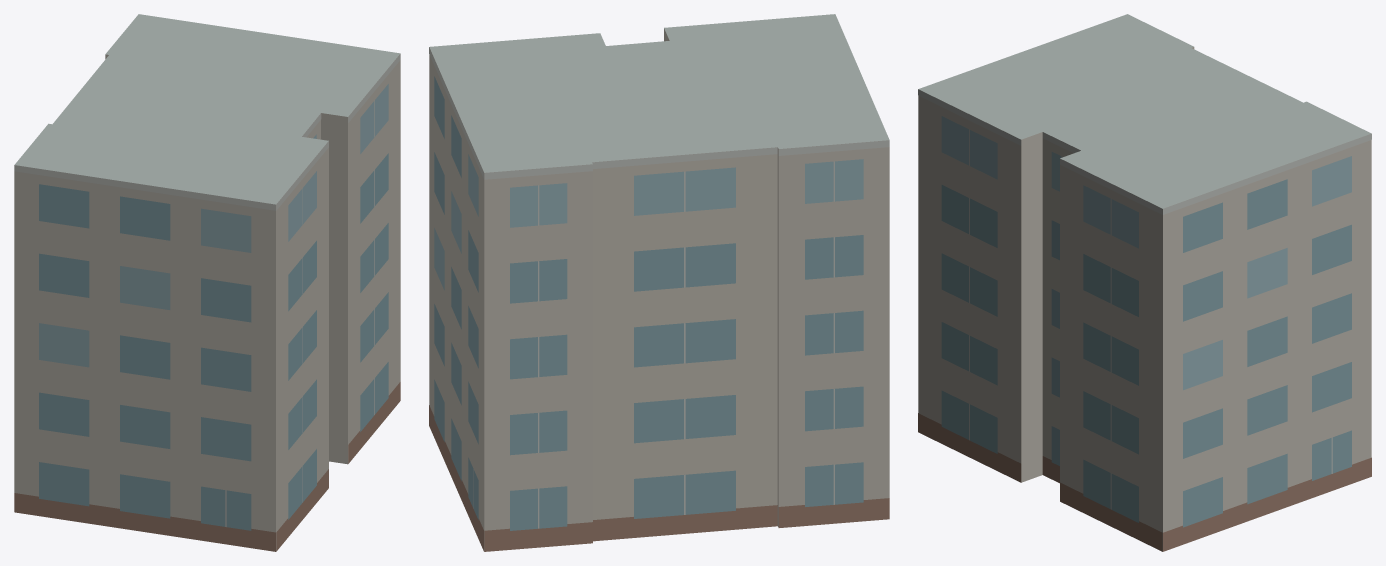
Rendered from survey-upis-32642512.glb.
The picture shows the model from 3 angles, left to right: view 1: azimuth 30°, elevation 25°; view 2: azimuth 150°, elevation 25°; view 3: azimuth 270°, elevation 25°; orthographic projection. The views are drawn at different scales.
Parts seen in each view (by area): view 1: survey-upis-32642512.tmp; view 2: survey-upis-32642512.tmp; view 3: survey-upis-32642512.tmp.
Boxes of the visible parts, x1,y1,x2,y2 form: survey-upis-32642512.tmp: [14, 14, 400, 551]; survey-upis-32642512.tmp: [429, 14, 889, 551]; survey-upis-32642512.tmp: [918, 14, 1371, 551].
Size of the model in its own units: 16.33 by 13.4 by 16.07.
